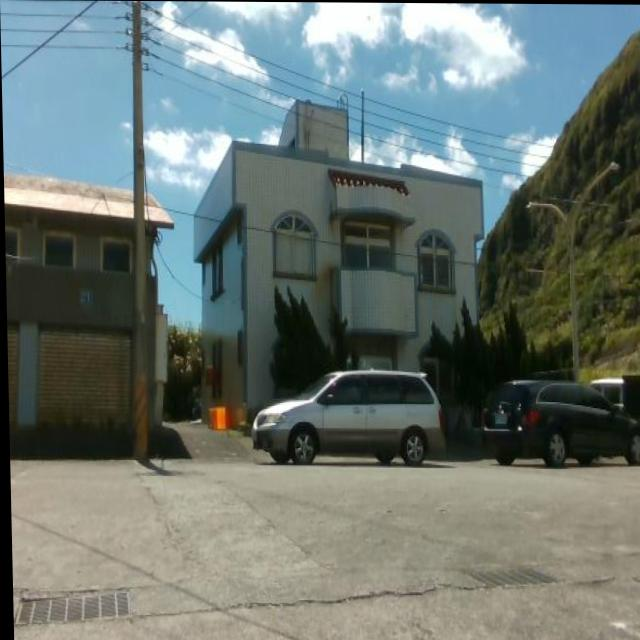pollute: (203, 407, 232, 433)
